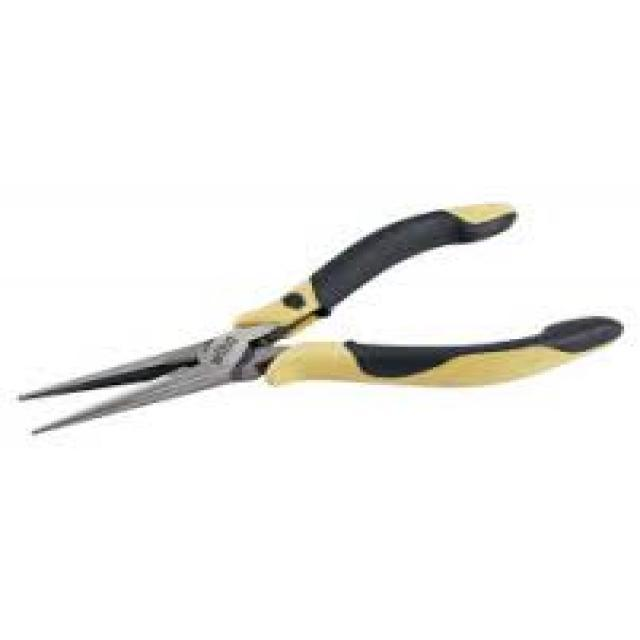pliers: (13, 198, 634, 436)
